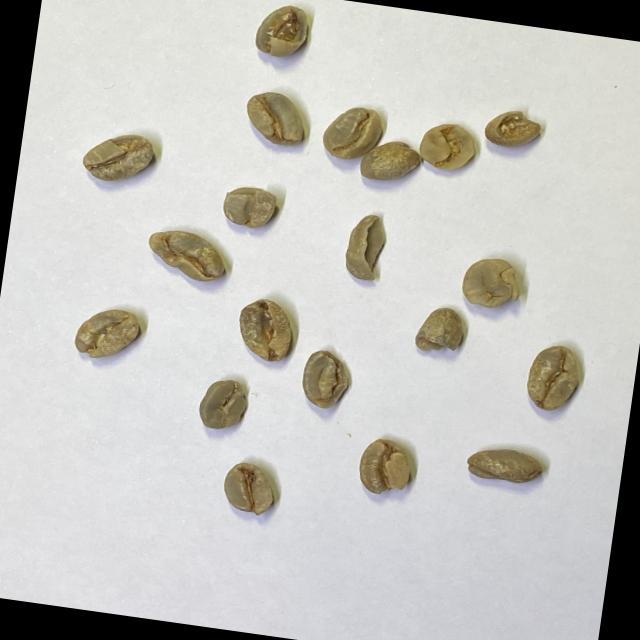bad: (142, 225, 232, 288), (78, 126, 159, 190), (520, 340, 586, 417), (232, 293, 300, 367), (240, 86, 311, 152), (352, 432, 418, 502), (70, 302, 142, 366), (318, 101, 387, 167), (456, 252, 526, 314), (464, 442, 550, 491), (339, 210, 394, 285), (250, 0, 313, 64), (416, 118, 484, 177), (218, 458, 282, 520), (298, 346, 356, 413), (356, 134, 426, 189), (193, 374, 254, 436), (480, 103, 548, 155), (411, 302, 471, 360), (218, 180, 283, 233)
